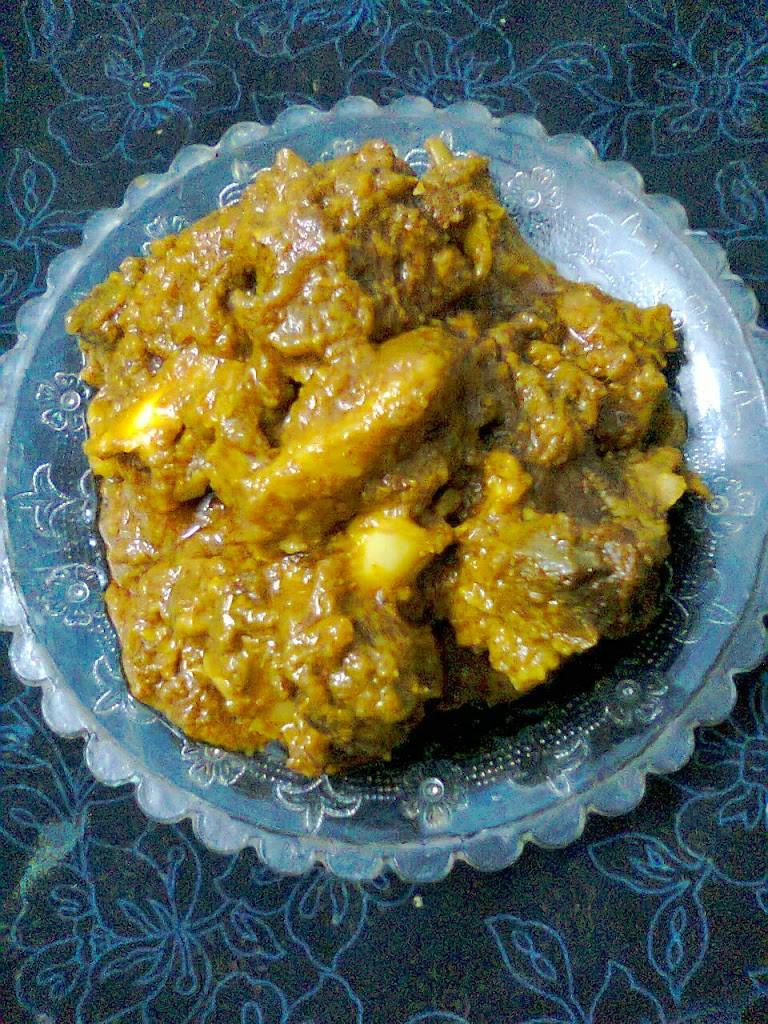MuttonCurry: (65, 133, 684, 773)
